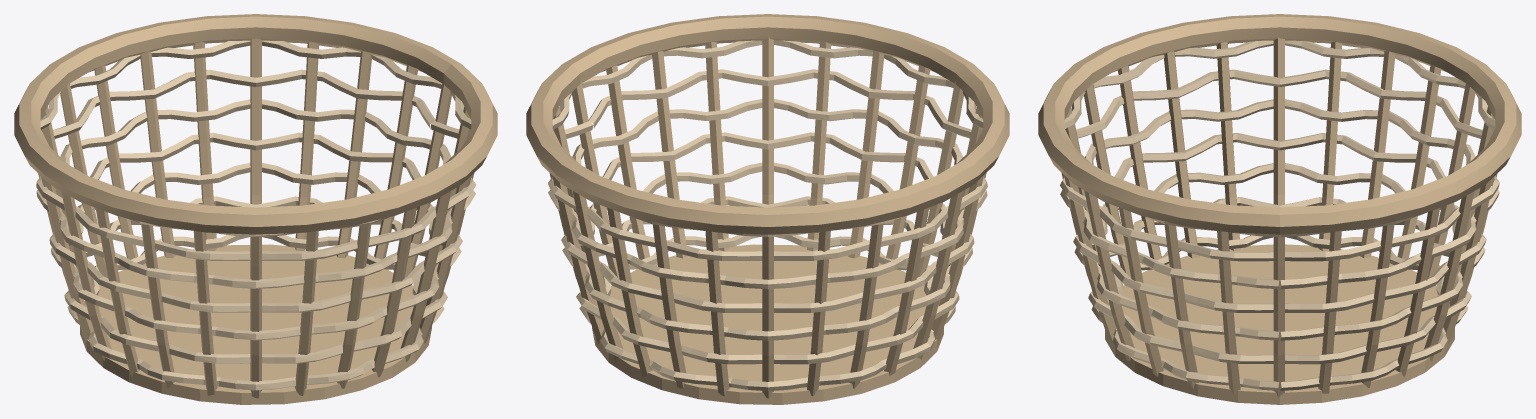
Rendered from fresh-produce-and-groceries-wicker-display-basket-4172c4be__24451.glb.
The picture shows the model from 3 angles, left to right: view 1: azimuth 30°, elevation 25°; view 2: azimuth 150°, elevation 25°; view 3: azimuth 270°, elevation 25°; orthographic projection.
Visible parts, largest first — view 1: wicker-display-basket; view 2: wicker-display-basket; view 3: wicker-display-basket.
Boxes of the visible parts, x1=… form: wicker-display-basket: x1=14, y1=14, x2=497, y2=404; wicker-display-basket: x1=526, y1=14, x2=1009, y2=404; wicker-display-basket: x1=1038, y1=14, x2=1521, y2=404.
Bounding box in the file's own units: 0.331 × 0.1643 × 0.3292.
